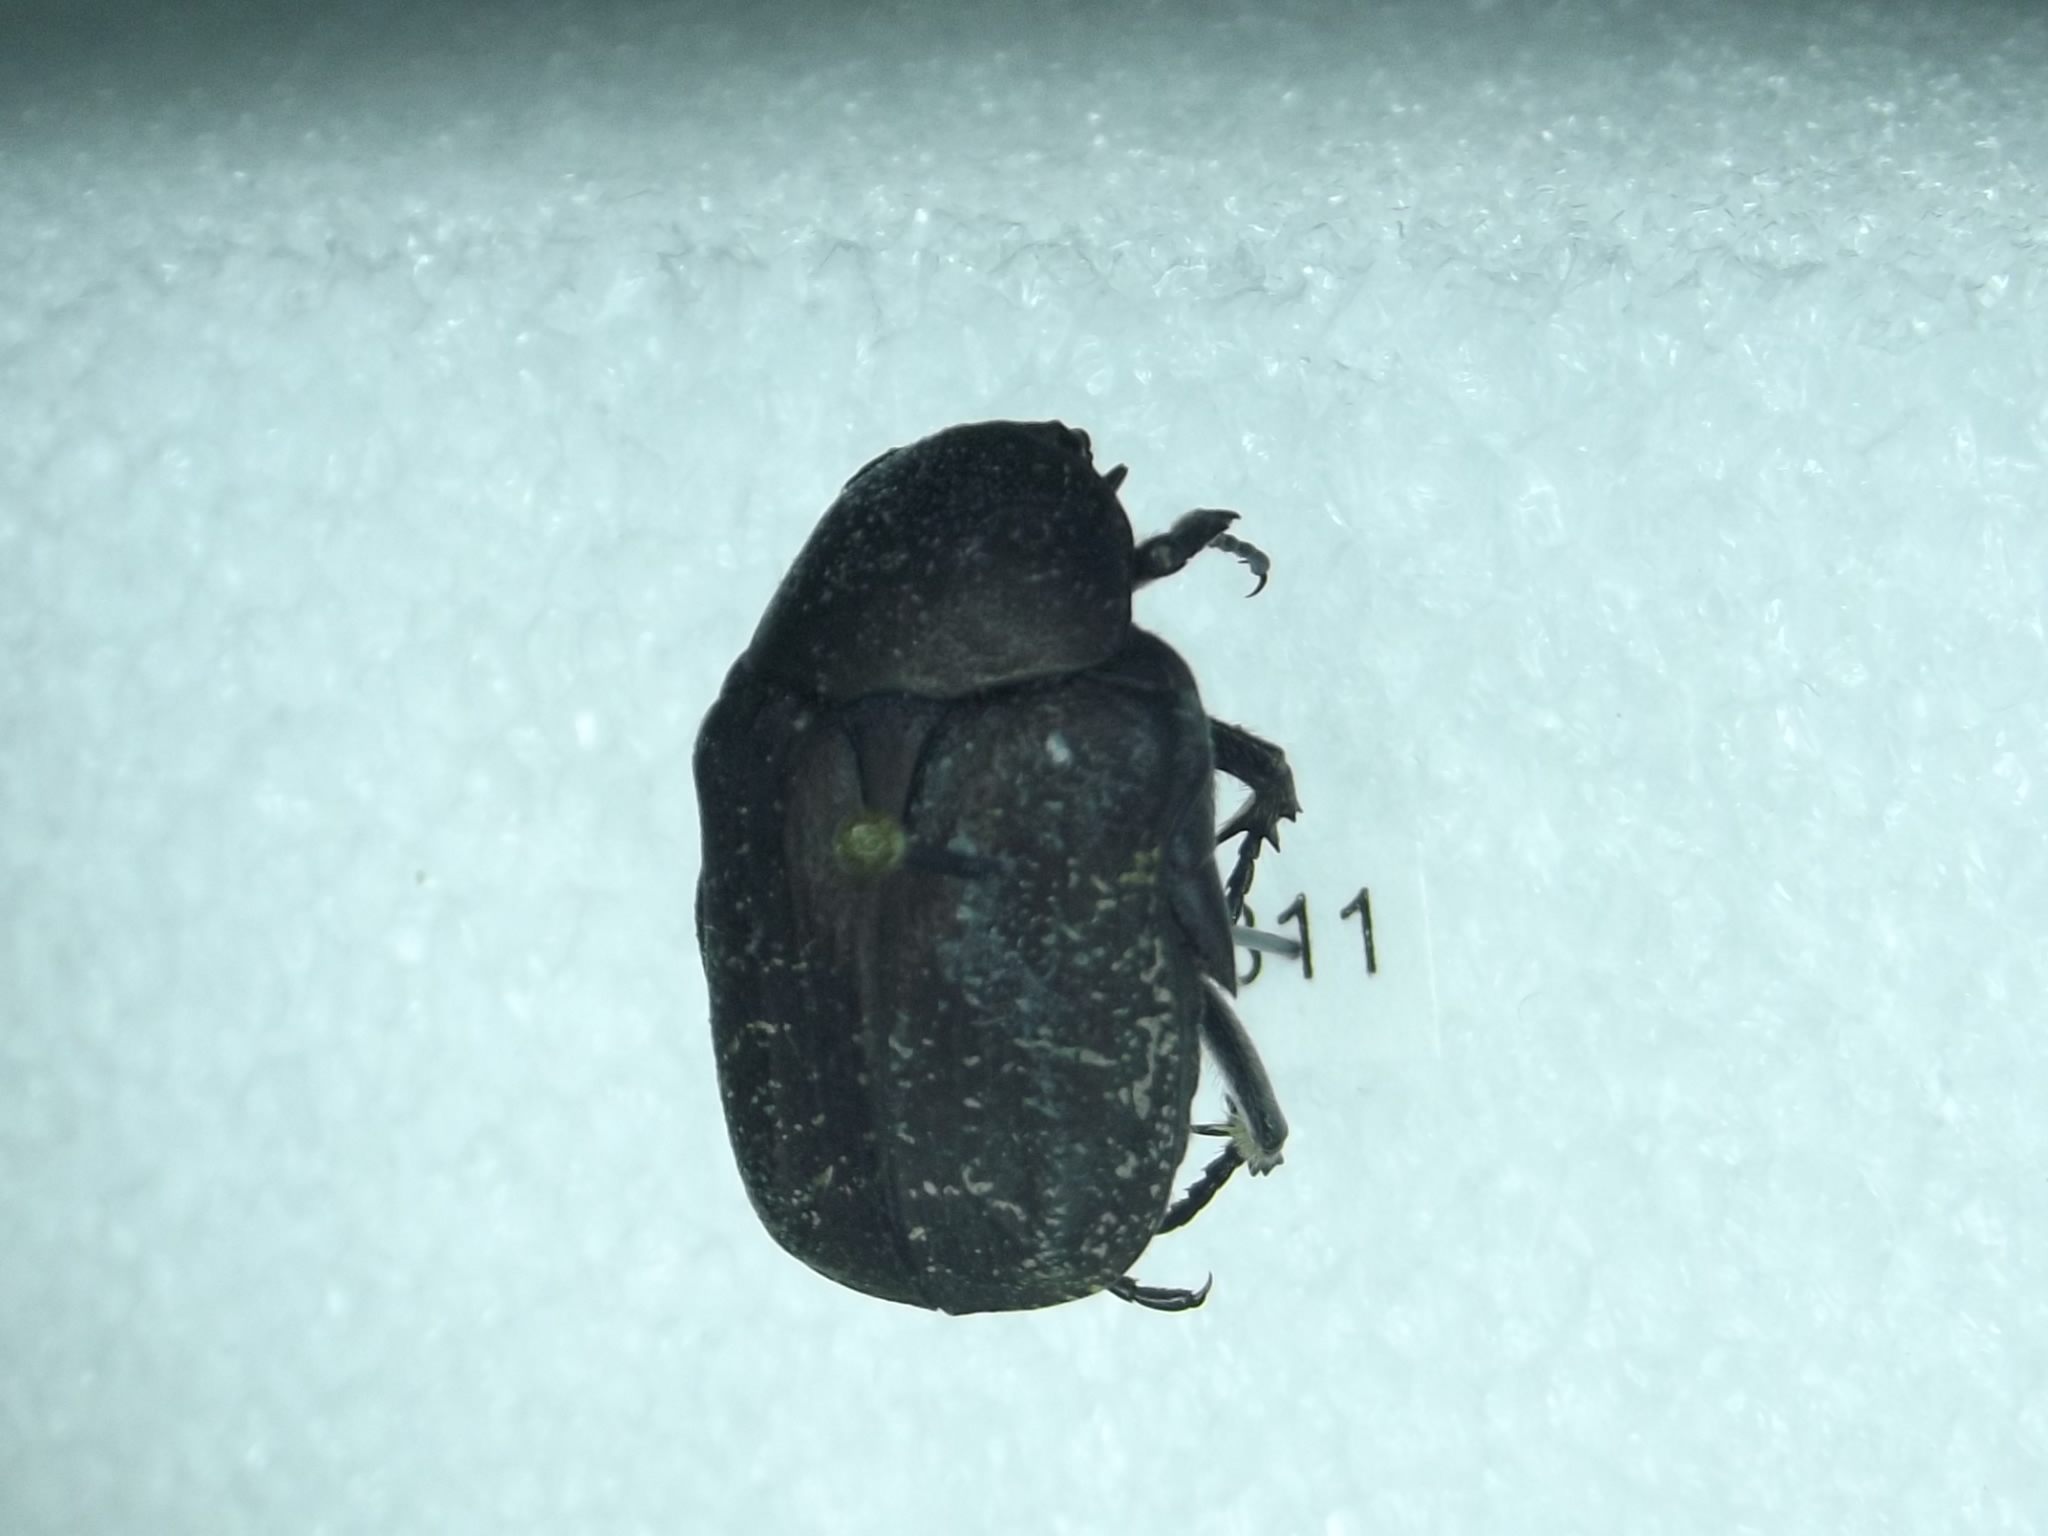Protaetia_asiatica: (681, 378, 1353, 1371)
